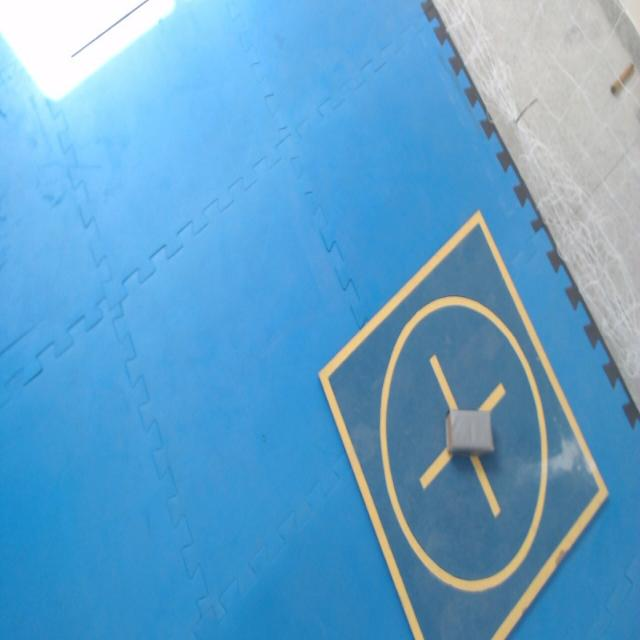lipo: (446, 409, 494, 457)
